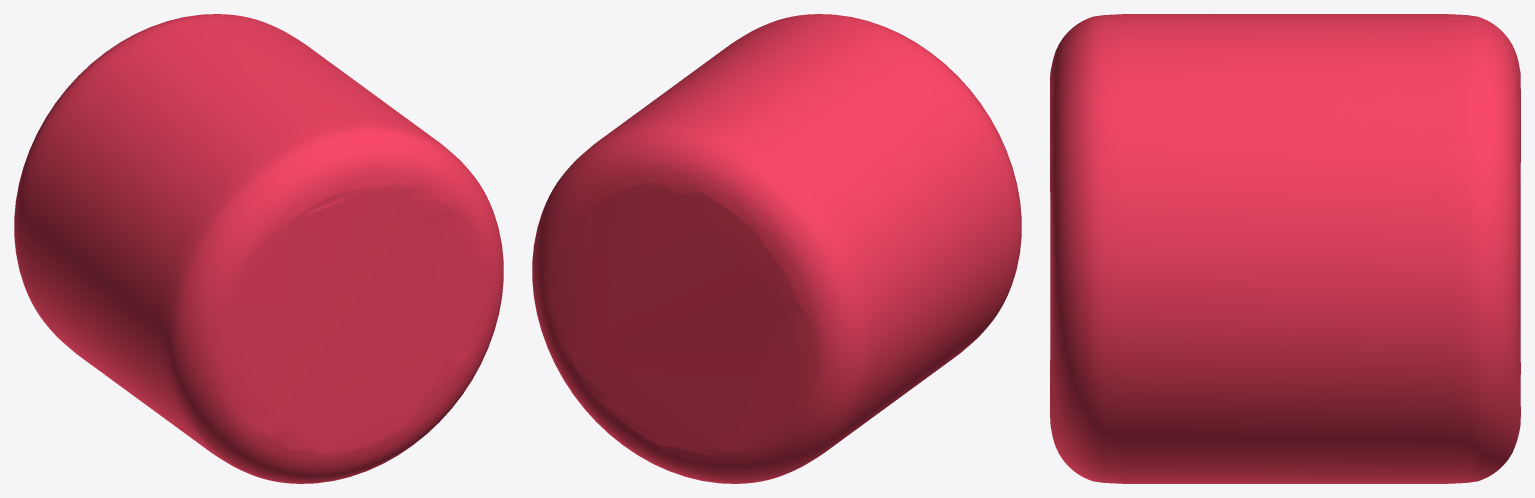
The model's file is high_cylinder_forward.obj.
3 views of the same model, side by side, from view 1: azimuth 30°, elevation 25°; view 2: azimuth 150°, elevation 25°; view 3: azimuth 270°, elevation 25° (orthographic). The views are drawn at different scales.
Visible parts, largest first — view 1: Cube_Cube_Material_Cube_Cube_Material_Material.001_Cube_Cub.000; view 2: Cube_Cube_Material_Cube_Cube_Material_Material.001_Cube_Cub.000; view 3: Cube_Cube_Material_Cube_Cube_Material_Material.001_Cube_Cub.000.
Part boxes in pixels (left/top/right/bottom): Cube_Cube_Material_Cube_Cube_Material_Material.001_Cube_Cub.000: left=14, top=14, right=503, bottom=483; Cube_Cube_Material_Cube_Cube_Material_Material.001_Cube_Cub.000: left=532, top=14, right=1021, bottom=483; Cube_Cube_Material_Cube_Cube_Material_Material.001_Cube_Cub.000: left=1050, top=14, right=1520, bottom=483.
Bounding box in the file's own units: 1.98 × 1.98 × 1.98.
1 material, 1 textured.
